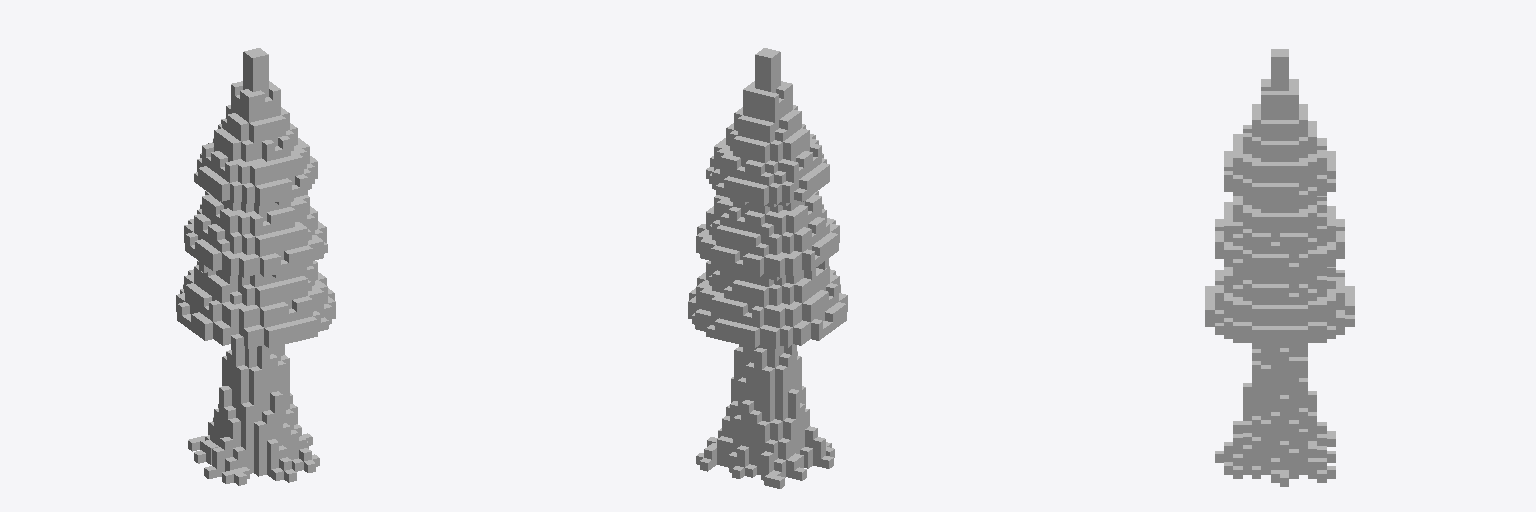
Rendered from Tree_V1.obj.
3 views of the same model, side by side, from view 1: azimuth 30°, elevation 25°; view 2: azimuth 150°, elevation 25°; view 3: azimuth 270°, elevation 25° (orthographic).
Visible parts, largest first — view 1: Tree_V1; view 2: Tree_V1; view 3: Tree_V1.
Part boxes in pixels (left/top/right/bottom): Tree_V1: left=176, top=48, right=335, bottom=485; Tree_V1: left=688, top=48, right=847, bottom=488; Tree_V1: left=1205, top=49, right=1354, bottom=486.
Size of the model in its own units: 16 by 48 by 16.